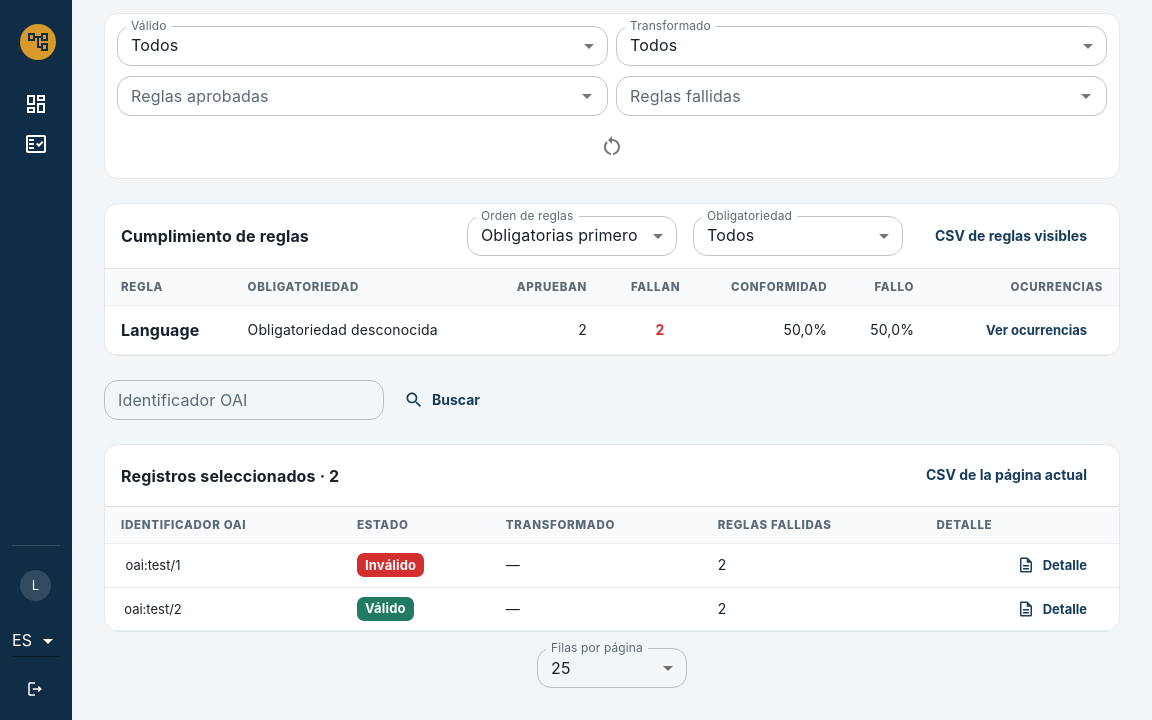
shows record validity consistently in the list and detail
(page scrolled)
Expected: the cell "Válido" is shown, [341,587,490,631]
Expected: the cell "Inválido" is shown, [341,544,490,587]
Click the button "oai:test/2" at (153, 609), box [121,598,185,620]
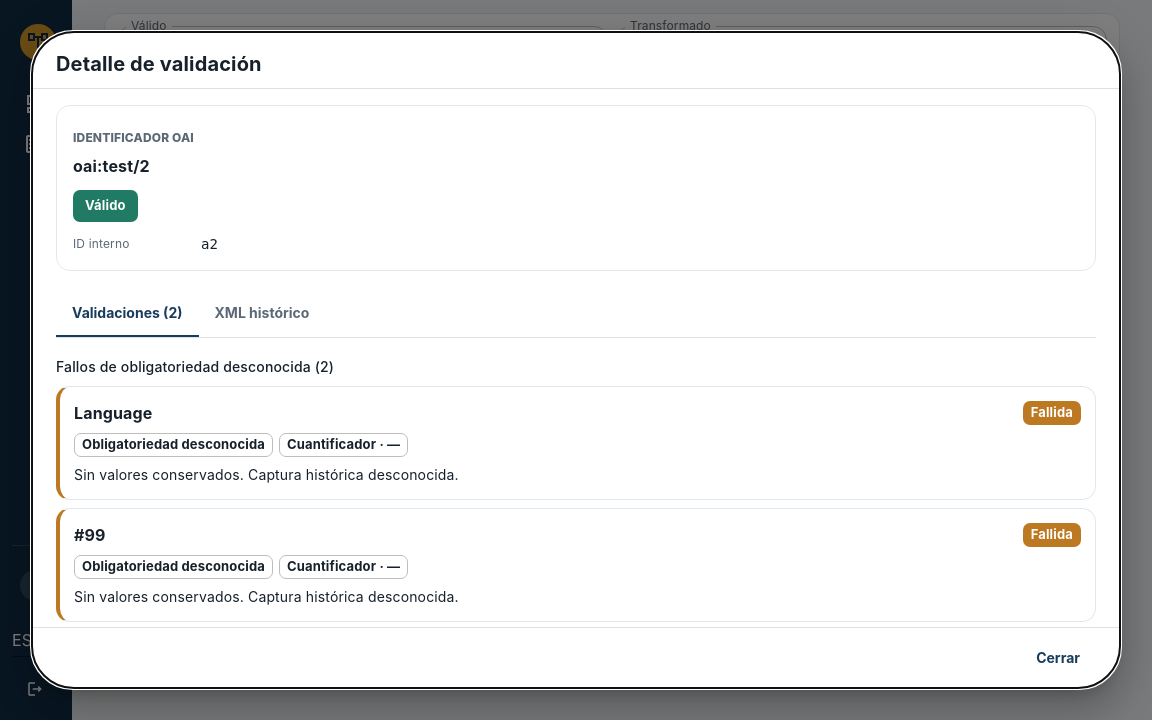
Result: the text "Válido" is shown at [85,197,126,213]
